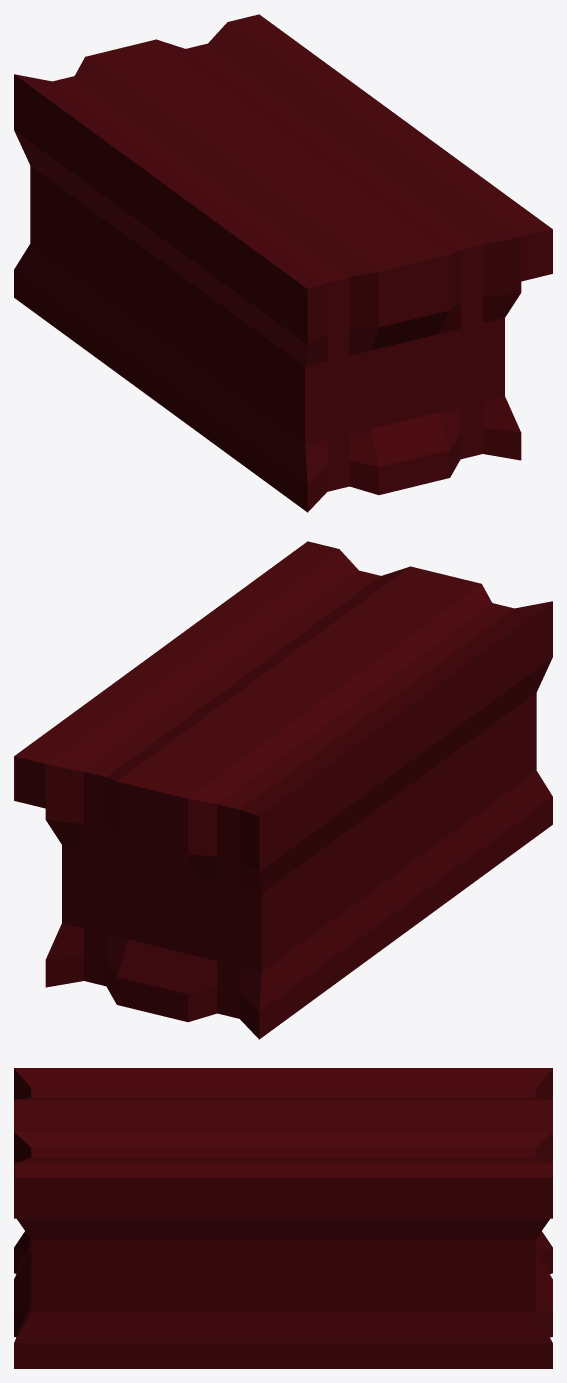
File: яЩИК .fbx
3 views of the same model, one above another, from view 1: azimuth 30°, elevation 25°; view 2: azimuth 150°, elevation 25°; view 3: azimuth 270°, elevation 25° (orthographic). The views are drawn at different scales.
Visible parts, largest first — view 1: Cube; view 2: Cube; view 3: Cube.
Part boxes in pixels (x1,y1,x2,y2): Cube: (14,14,552,512); Cube: (14,541,552,1039); Cube: (14,1068,552,1368).
Size of the model in its own units: 230 by 200 by 476.
